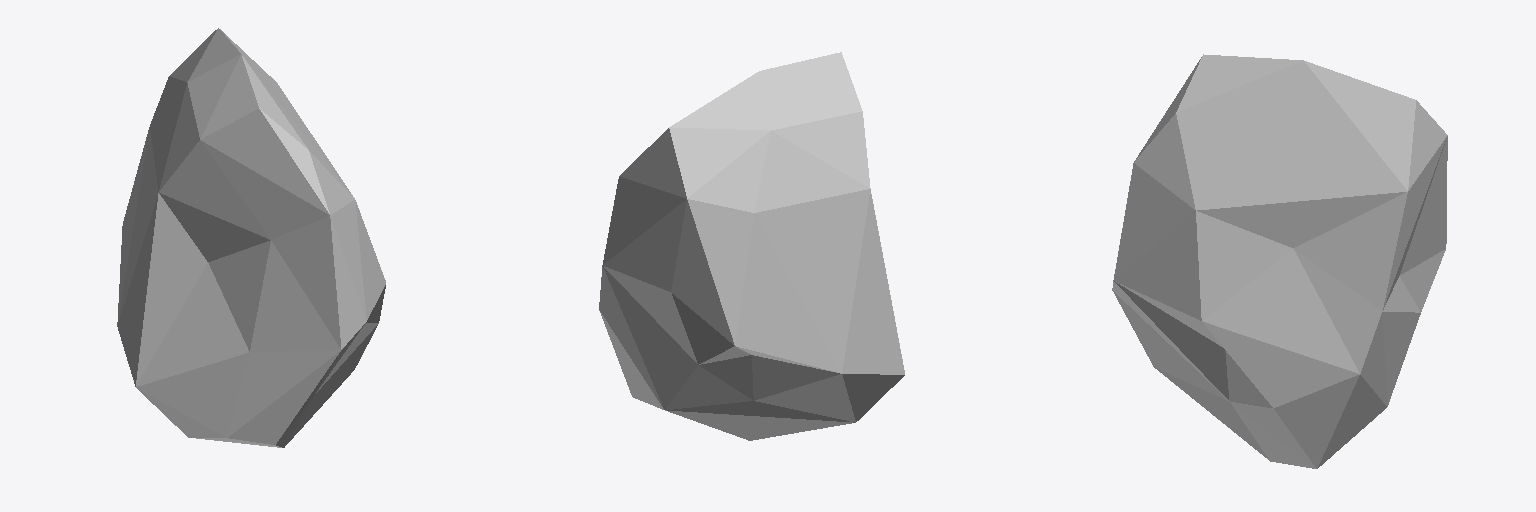
Rendered from Rock1.obj.
3 renders of one model, left to right at view 1: azimuth 30°, elevation 25°; view 2: azimuth 150°, elevation 25°; view 3: azimuth 270°, elevation 25°, orthographic.
Visible parts, largest first — view 1: Cube.001; view 2: Cube.001; view 3: Cube.001.
Boxes of the visible parts, x1,y1,x2,y2 form: Cube.001: [117, 28, 385, 447]; Cube.001: [599, 52, 904, 440]; Cube.001: [1112, 54, 1447, 468].
Bounding box in the file's own units: 1.27 × 1.83 × 1.43.